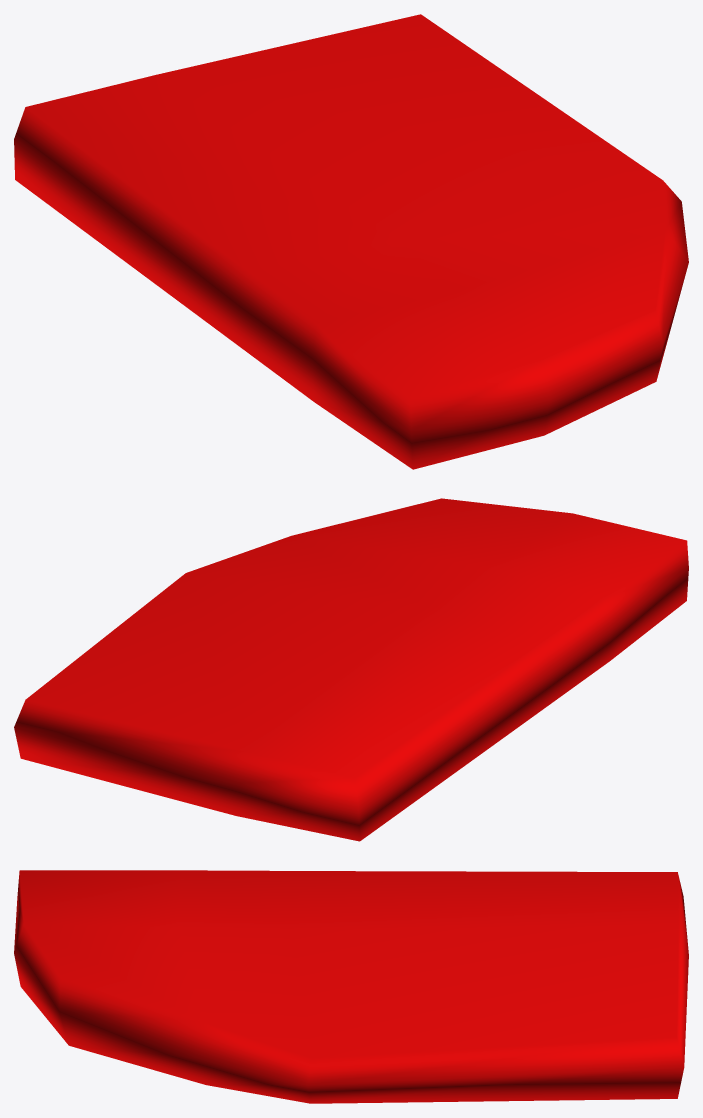
File: Concrete_Block_03.fbx
3 renders of one model, top to bottom at view 1: azimuth 30°, elevation 25°; view 2: azimuth 150°, elevation 25°; view 3: azimuth 270°, elevation 25°, orthographic. The views are drawn at different scales.
Visible parts, largest first — view 1: Concrete_Block_03; view 2: Concrete_Block_03; view 3: Concrete_Block_03.
Part boxes in pixels (<box>): Concrete_Block_03: <box>14,14,688,469</box>; Concrete_Block_03: <box>14,498,688,841</box>; Concrete_Block_03: <box>14,870,688,1103</box>.
Bounding box in the file's own units: 141 × 24.04 × 220.
